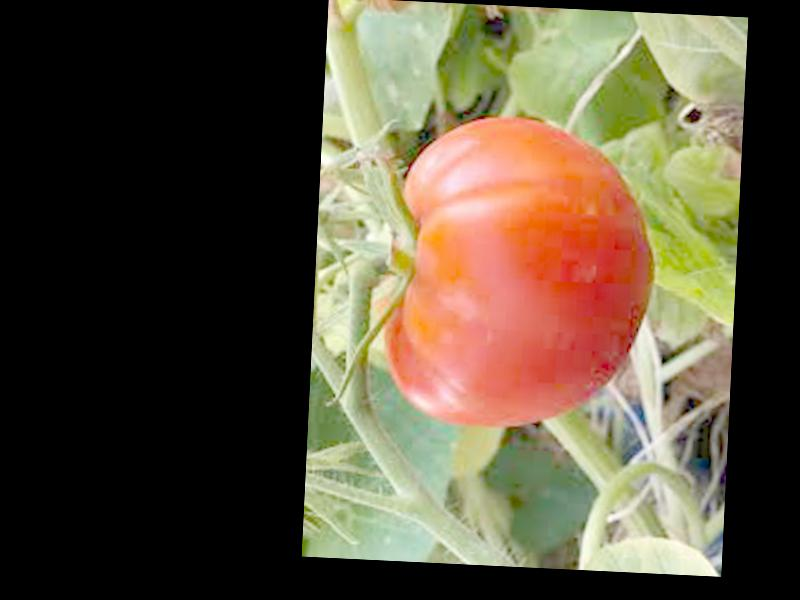Tomato: (380, 111, 658, 436)
